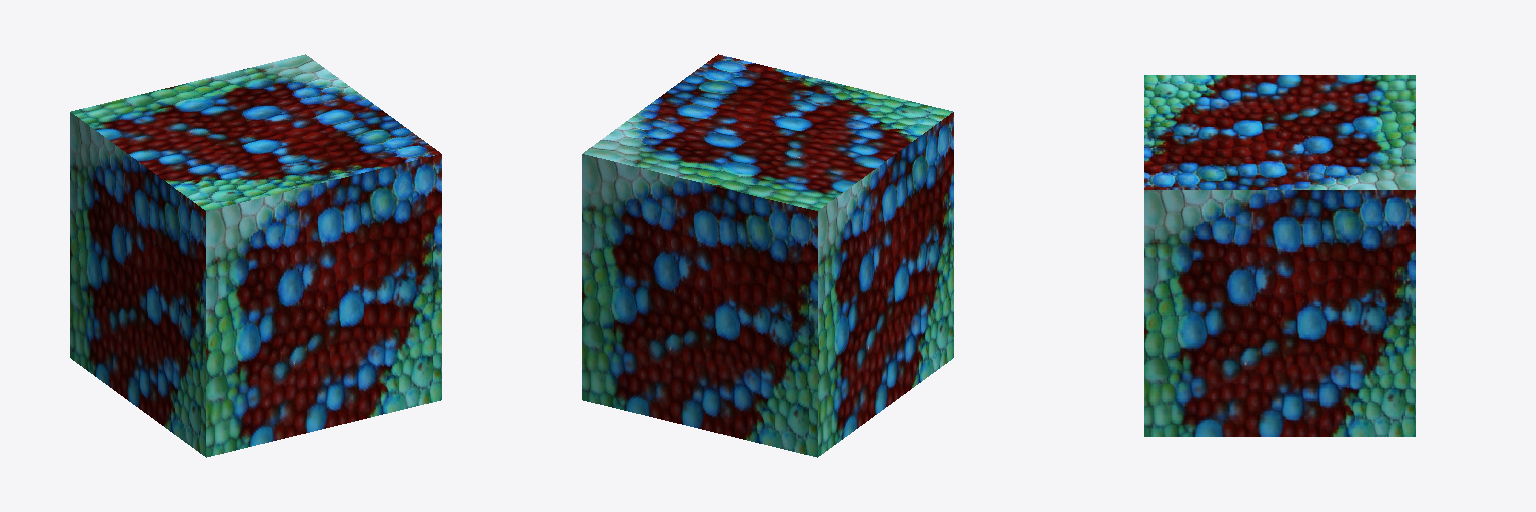
3 views of the same model, side by side, from view 1: azimuth 30°, elevation 25°; view 2: azimuth 150°, elevation 25°; view 3: azimuth 270°, elevation 25° (orthographic).
Visible parts, largest first — view 1: Cube_Cube.001; view 2: Cube_Cube.001; view 3: Cube_Cube.001.
Part boxes in pixels (x1,y1,x2,y2): Cube_Cube.001: (70, 54, 441, 457); Cube_Cube.001: (582, 54, 953, 457); Cube_Cube.001: (1144, 75, 1415, 436).
Bounding box in the file's own units: 1 × 1 × 1.
1 materials, 1 textured.